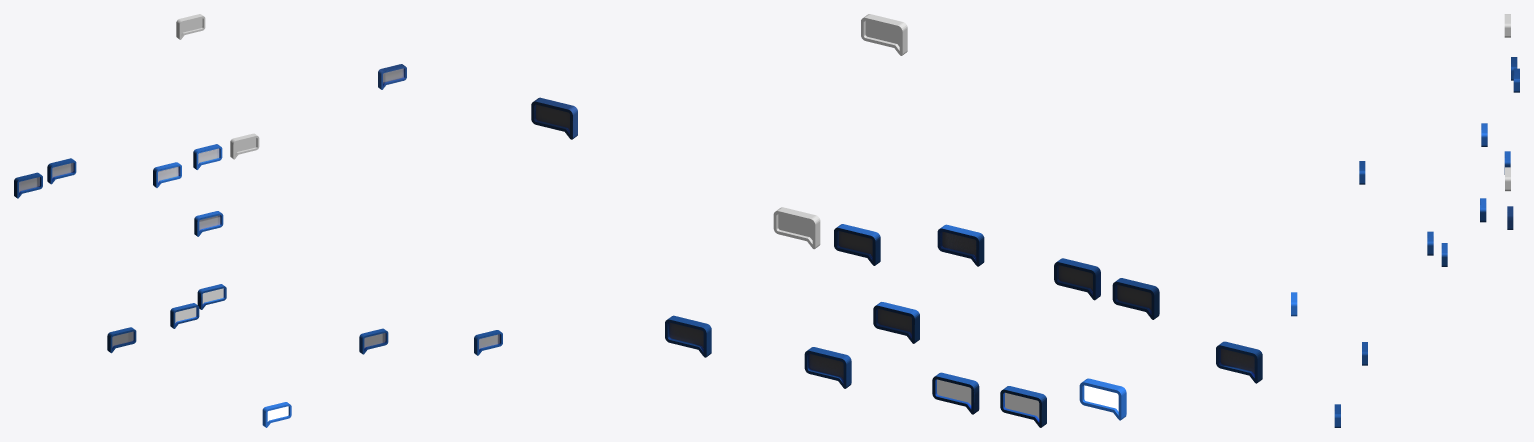
Rendered from pop_up_movies.glb.
The picture shows the model from 3 angles, left to right: view 1: azimuth 30°, elevation 25°; view 2: azimuth 150°, elevation 25°; view 3: azimuth 270°, elevation 25°; orthographic projection. The views are drawn at different scales.
Visible parts, largest first — view 1: pop_up_games, pop_up_running, pop_up_photography_left, pop_up_books, pop_up_share_knowledge, pop_up_contact_me, pop_up_travel, pop_up_movies, pop_up_development, pop_up_stereoscopy, pop_up_art, pop_up_social_networks (+2 smaller); view 2: pop_up_running, pop_up_stereoscopy, pop_up_art, pop_up_books, pop_up_social_networks, pop_up_share_knowledge, pop_up_games, pop_up_photography_right, pop_up_movies, pop_up_photography_left, pop_up_languages, pop_up_travel (+2 smaller); view 3: no part large enough to name.
Part boxes in pixels (x1,y1,x2,y2): pop_up_games: (107,327,136,353); pop_up_running: (262,402,291,427); pop_up_photography_left: (47,158,76,184); pop_up_books: (230,133,259,159); pop_up_share_knowledge: (359,328,388,354); pop_up_contact_me: (170,303,199,328); pop_up_travel: (176,14,205,39); pop_up_movies: (193,144,222,169); pop_up_development: (194,211,223,236); pop_up_stereoscopy: (197,284,226,309); pop_up_art: (14,172,42,198); pop_up_social_networks: (153,162,181,187); pop_up_running: (1079,378,1126,420); pop_up_stereoscopy: (932,372,979,414); pop_up_art: (1112,278,1159,319); pop_up_books: (773,207,820,249); pop_up_social_networks: (937,224,984,266); pop_up_share_knowledge: (804,347,851,388); pop_up_games: (1216,341,1262,383); pop_up_photography_right: (665,315,711,357); pop_up_movies: (834,224,880,265); pop_up_photography_left: (1054,258,1100,300); pop_up_languages: (531,97,577,139); pop_up_travel: (861,14,907,55).
Size of the model in its own units: 34.1 by 26.5 by 17.78.
14 materials, 12 textured.
